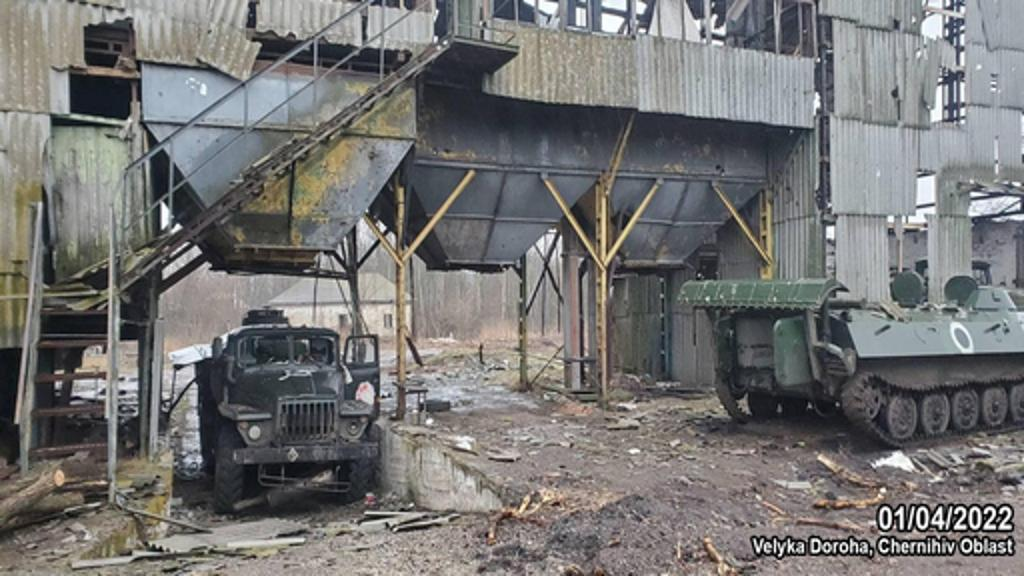APC-IFV: (670, 262, 1022, 444)
TRUCK: (180, 302, 392, 516)
